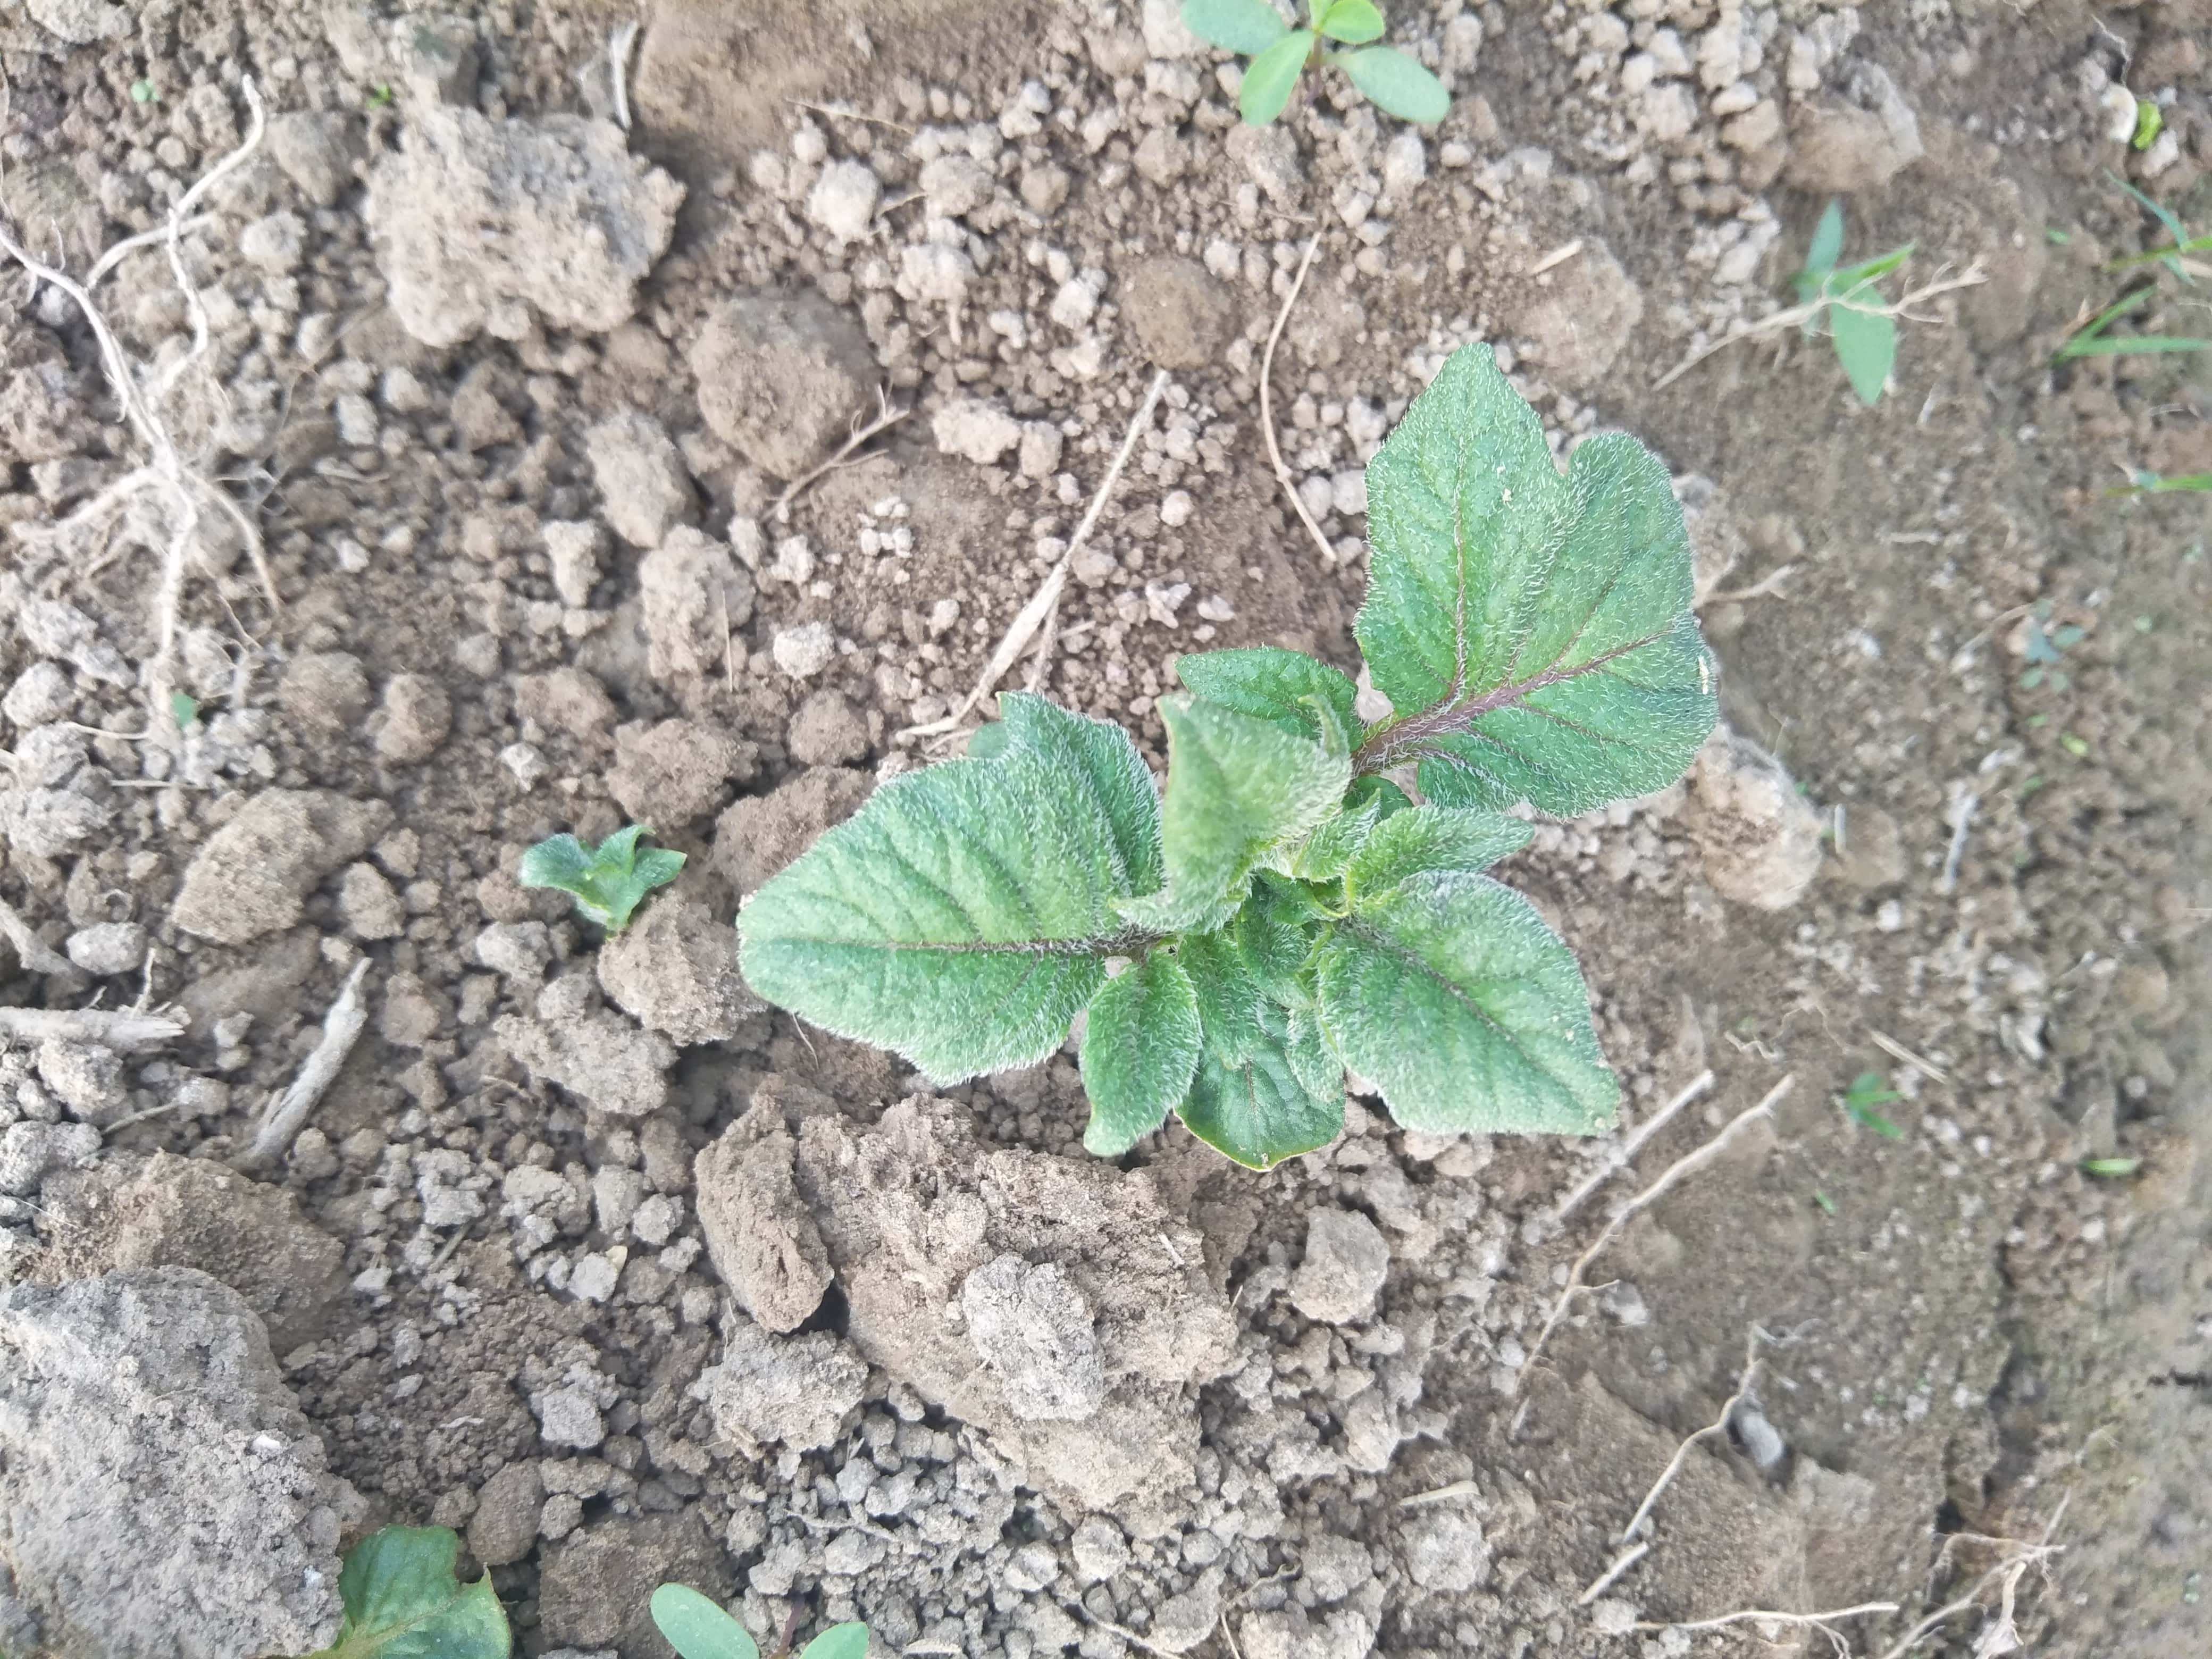daun: (1364, 350, 1710, 814), (738, 690, 1150, 1077), (1327, 873, 1629, 1134), (1146, 708, 1334, 906), (1183, 648, 1371, 793), (1073, 946, 1195, 1154), (1205, 1018, 1348, 1157), (1327, 814, 1545, 870)
